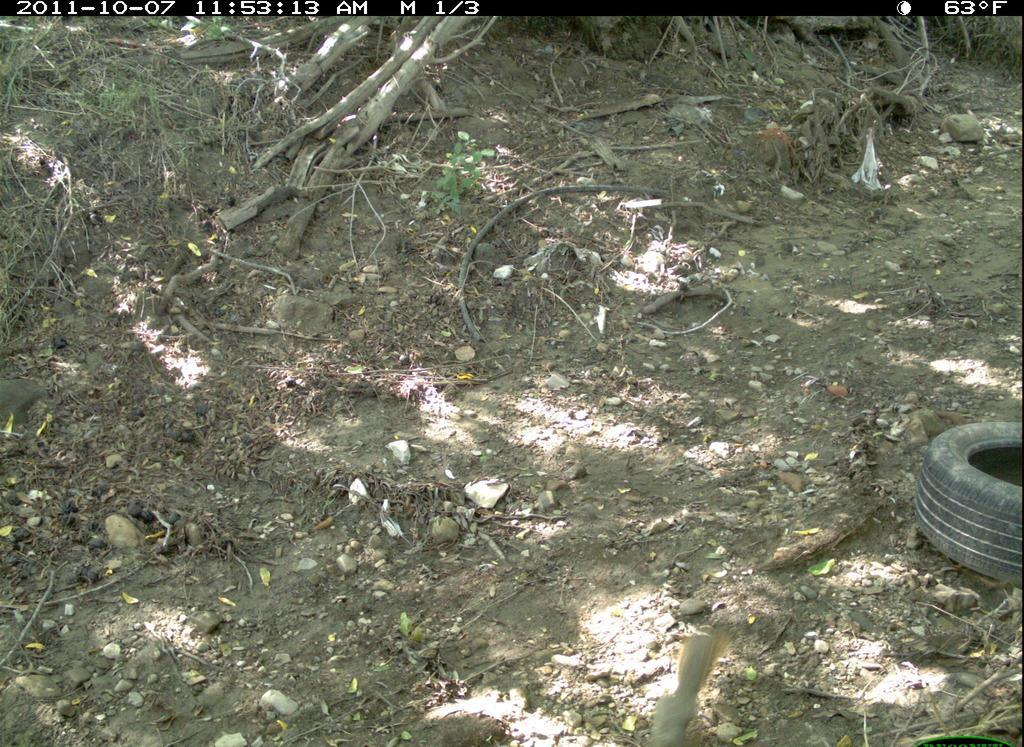squirrel: (648, 633, 737, 739)
